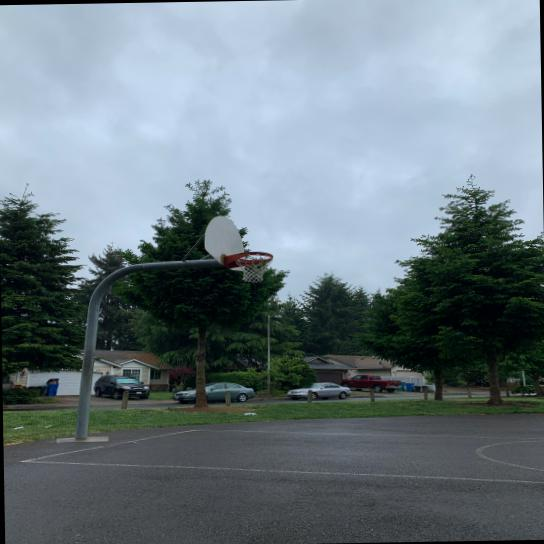basketball-hoop: (236, 250, 275, 283)
